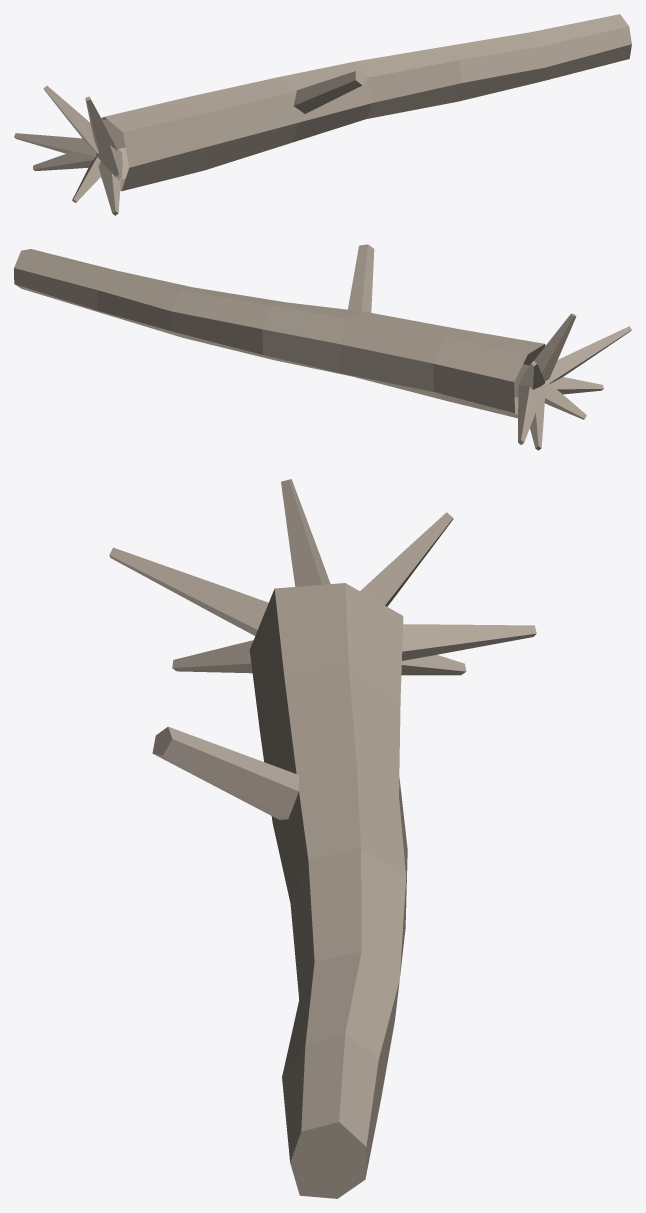
File: Blender_Driftwood_3.glb
The picture shows the model from 3 angles, top to bottom: view 1: azimuth 30°, elevation 25°; view 2: azimuth 150°, elevation 25°; view 3: azimuth 270°, elevation 25°; orthographic projection. The views are drawn at different scales.
Parts seen in each view (by area): view 1: Blender_Driftwood_3; view 2: Blender_Driftwood_3; view 3: Blender_Driftwood_3.
Part boxes in pixels (left/top/right/bottom): Blender_Driftwood_3: left=14, top=14, right=631, bottom=215; Blender_Driftwood_3: left=14, top=244, right=631, bottom=450; Blender_Driftwood_3: left=109, top=479, right=536, bottom=1198.
Size of the model in its own units: 3.93 by 0.7035 by 1.31.
